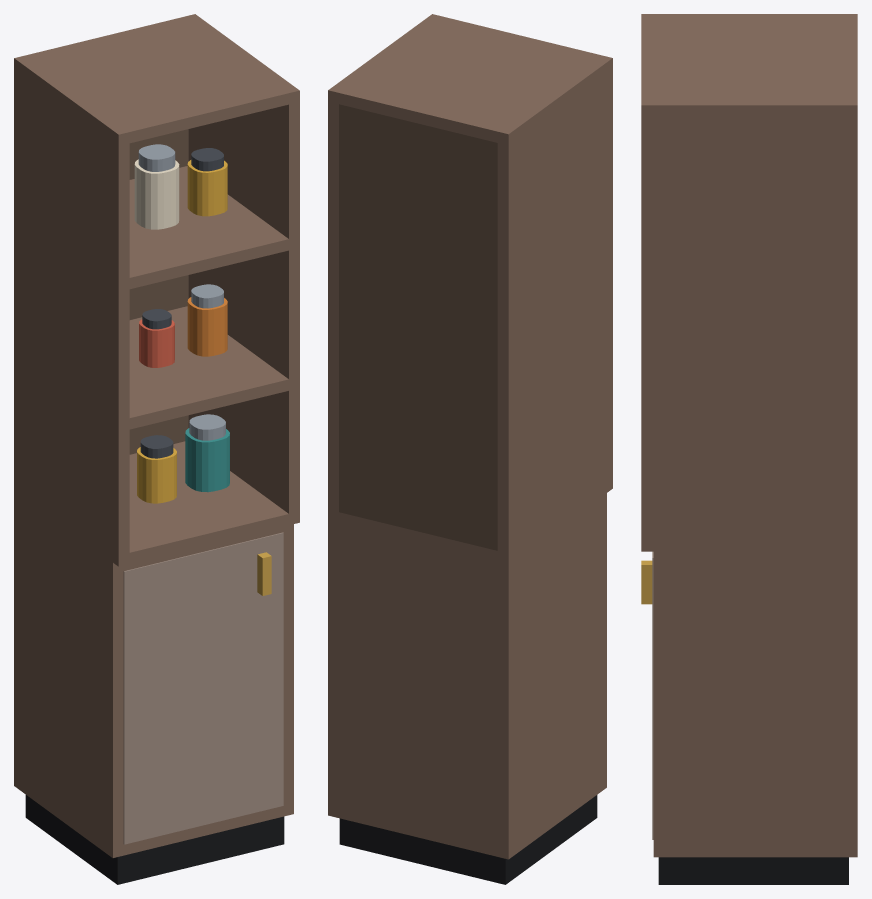
File: pantry.glb
The picture shows the model from 3 angles, left to right: view 1: azimuth 30°, elevation 25°; view 2: azimuth 150°, elevation 25°; view 3: azimuth 270°, elevation 25°; orthographic projection. The views are drawn at different scales.
Parts seen in each view (by area): view 1: pantry_Body; view 2: pantry_Body; view 3: pantry_Body.
Part boxes in pixels (x1,y1,x2,y2): pantry_Body: [14, 14, 299, 884]; pantry_Body: [328, 14, 612, 884]; pantry_Body: [641, 14, 857, 884].
Size of the model in its own units: 0.5 by 2 by 0.5.
